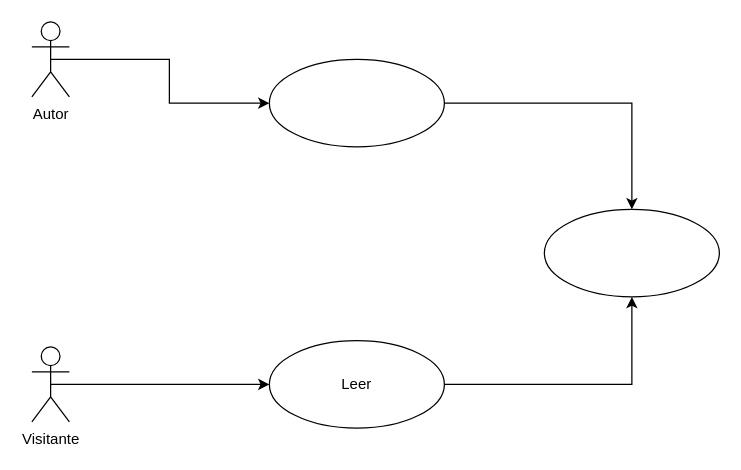
This 741x470 diagram has some shape labels left out. Here are the shapes that lost their labels. From the top down, the box of each, then its label:
(268, 58, 444, 147): Publicar
(543, 208, 719, 297): Articulo
